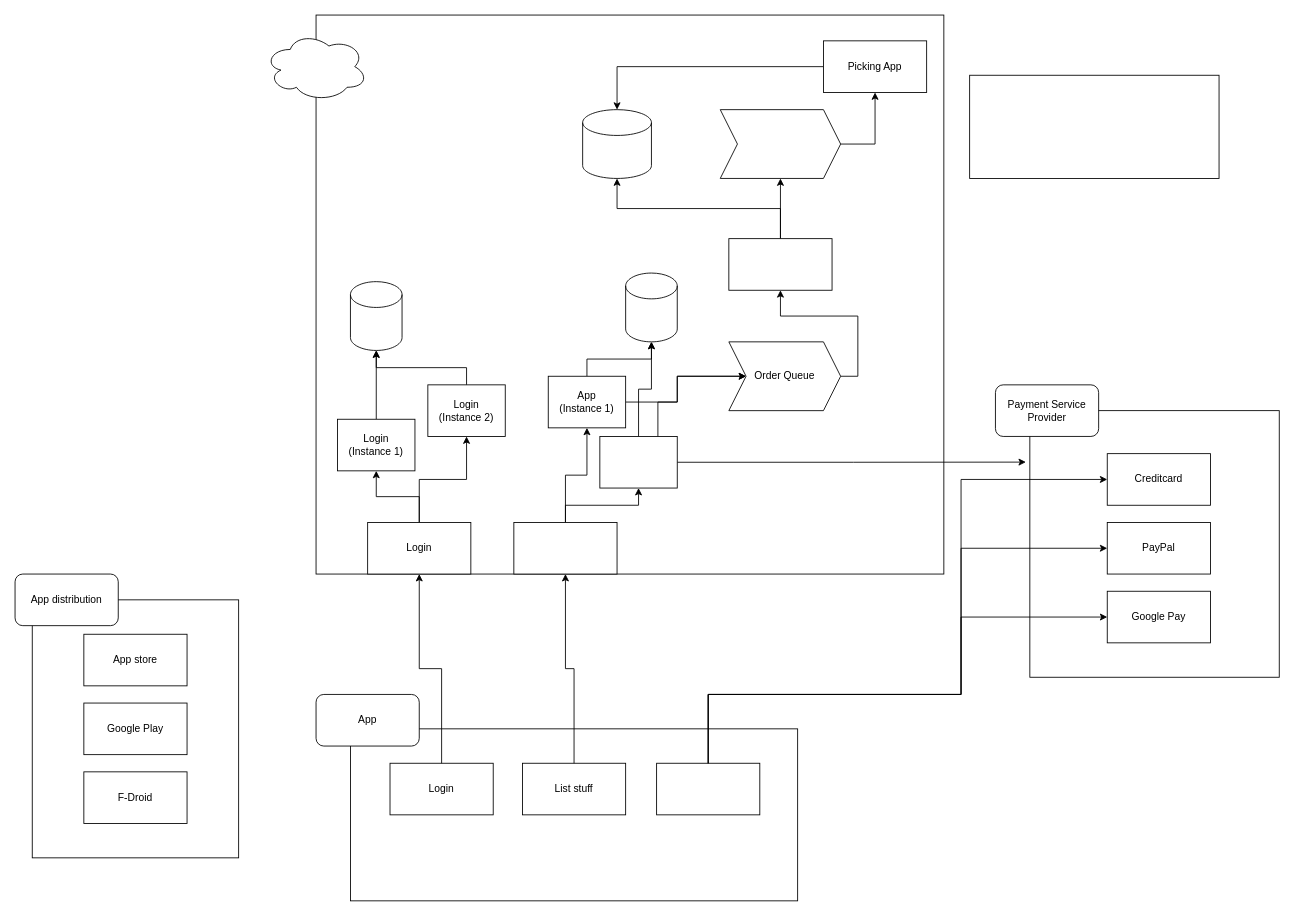
Image size: 1294x916. Some labels were removed from this diagram. The shapes that lost their labels are listed below. From the top down, each one's centre as x and y in pixels, then its label:
At point (316, 66): "Cloud hosted".
At point (616, 143): "Warehouse DB".
At point (780, 143): "Picking Queue".
At point (780, 264): "Order processing".
At point (376, 315): "Login DB".
At point (651, 307): "App DB".
At point (638, 462): "App (Instance 2)".
At point (565, 548): "Main Service".
At point (708, 788): "Pay".
